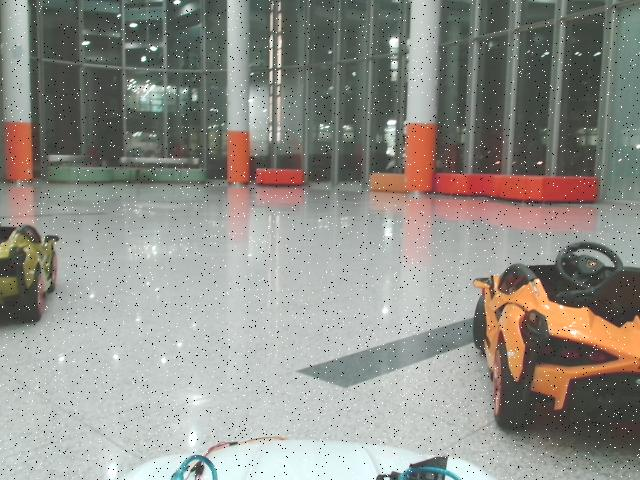car: (473, 242, 640, 433), (1, 223, 59, 326)
